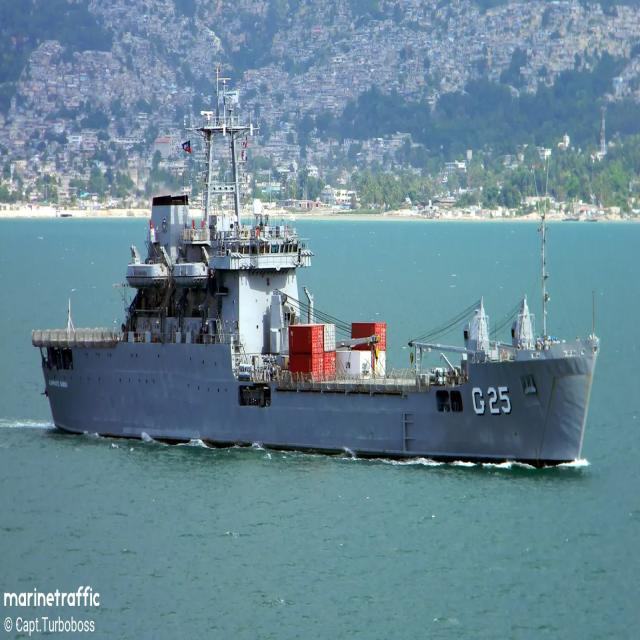Military: (32, 78, 599, 466)
